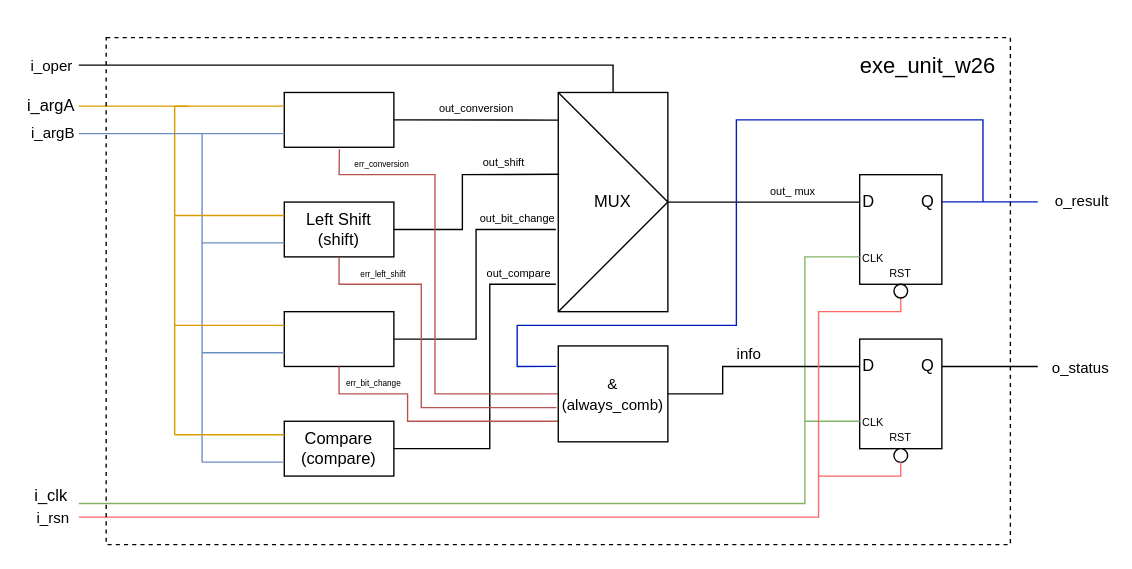
Image size: 1132x569. Some labels were removed from this diagram. Here are the shapes that lost their labels. From the top down, the centre of each, then its label:
At [338,119]: "U2 to SM (conversion)".
At [338,338]: "Bit Change (bit_change)".
